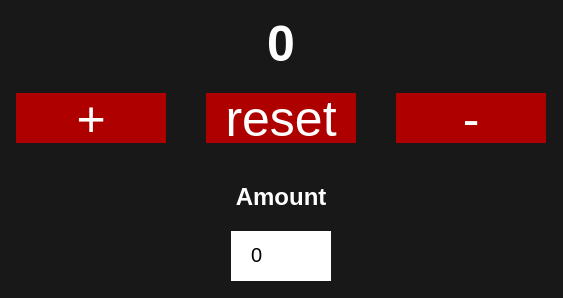
Test: <Counter /> check click
The image size is (563, 298).
Replace the text in the field with test id "input" with "1" at point(281, 256), box [231,231,331,281]
Click the button with test id "button-increment" at point(91, 118), box [16,93,166,143]
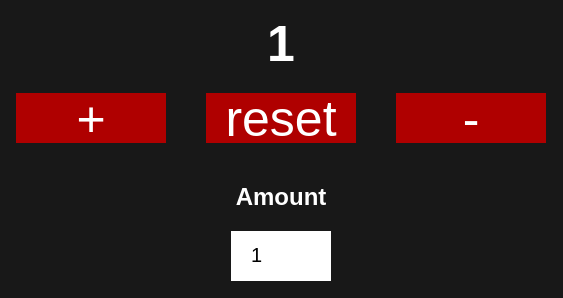
Expected: the heading "1" is shown, [267,16,295,72]
Replace the text in the field with test id "input" with "4" at point(281, 256), box [231,231,331,281]
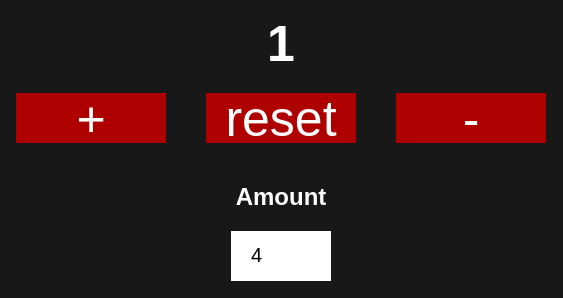
Click the button with test id "button-increment" at point(91, 118), box [16,93,166,143]
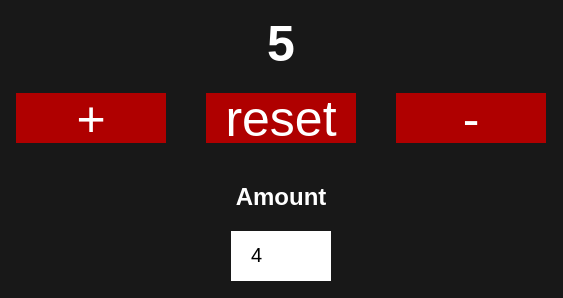
Expected: the heading "5" is shown, [267,16,295,72]
Click the button with test id "button-reset" at point(281, 118), box [206,93,356,143]
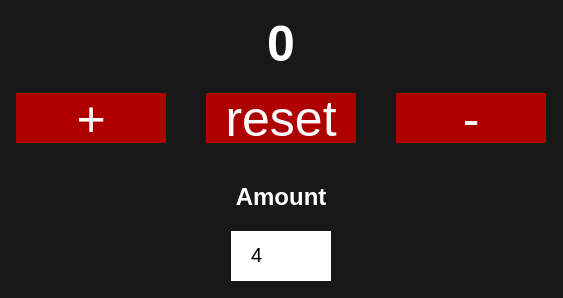
Expected: the heading "0" is shown, [267,16,295,72]
Replace the text in the field with test id "input" with "10" at point(281, 256), box [231,231,331,281]
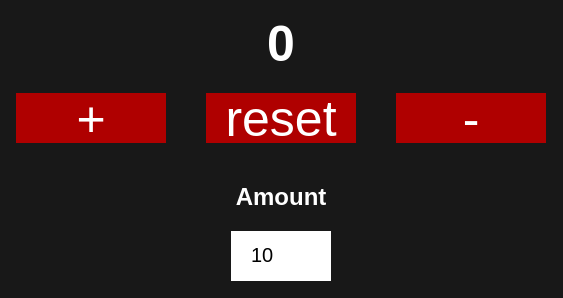
Click the button with test id "button-decrement" at point(471, 118), box [396,93,546,143]
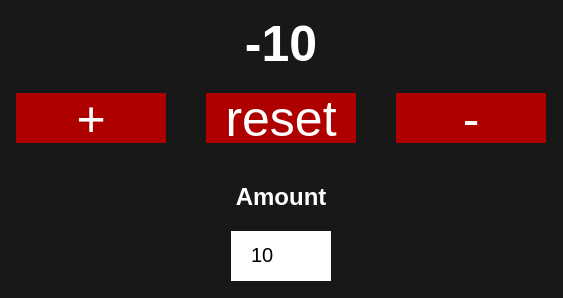
Expected: the heading "-10" is shown, [245,16,317,72]
